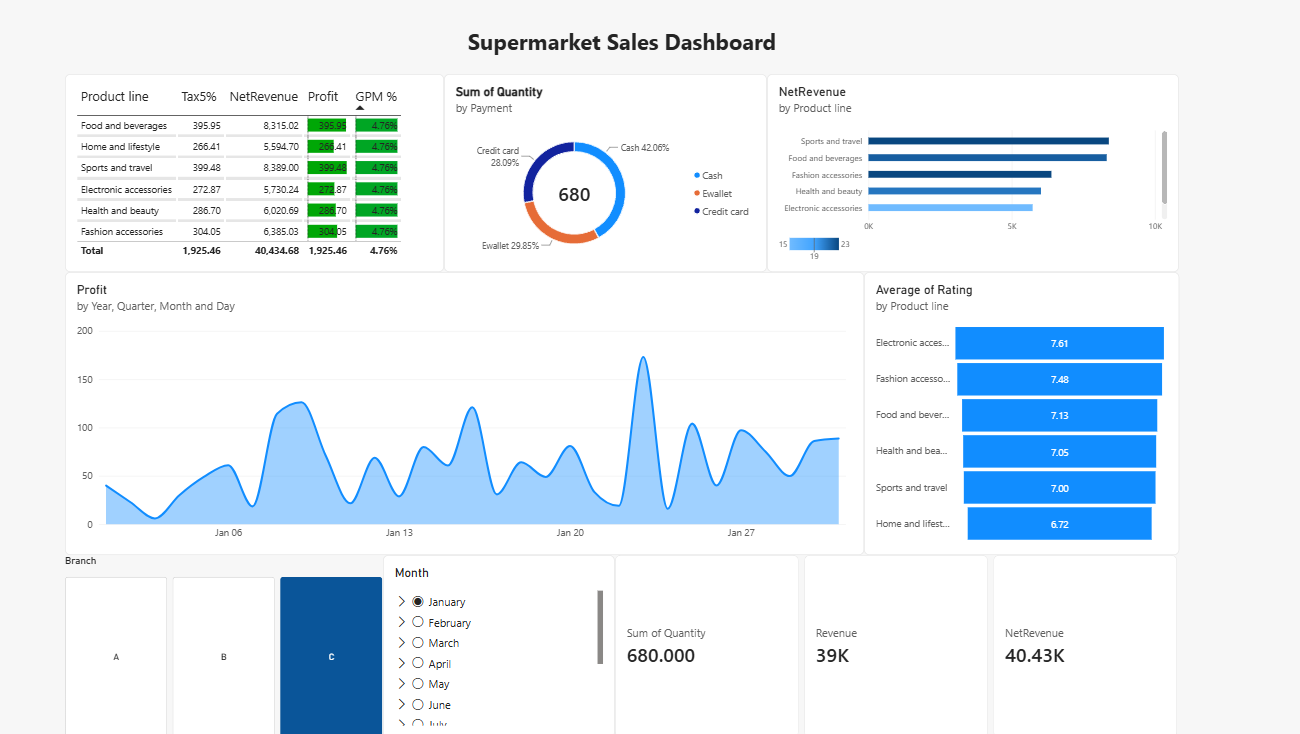

This screenshot's page, from the dashboard's own definition file:
{"tool":"powerbi","page":{"name":"Deck-1","canvas":[1920,1080],"ordinal":0},"visuals":[{"type":"tableEx","fields":{"Values":["supermarket_sales.Product line","supermarket_sales.Tax5%","supermarket_sales.NetRevenue","supermarket_sales.Profit","supermarket_sales.GPM %"]},"box":[100.7,110.9,552.9,288.9],"z":0,"group":"g1"},{"type":"donutChart","fields":{"Category":["supermarket_sales.Payment"],"Y":["Sum(supermarket_sales.Quantity)"]},"box":[653.6,110.9,471.2,288.9],"z":1000,"group":"g1"},{"type":"barChart","fields":{"Category":["supermarket_sales.Product line"],"Y":["supermarket_sales.NetRevenue"]},"box":[1124.9,110.9,601.1,288.9],"z":2000,"group":"g1"},{"type":"areaChart","fields":{"Category":["supermarket_sales.Date.Variation.Date Hierarchy.Year","supermarket_sales.Date.Variation.Date Hierarchy.Quarter","supermarket_sales.Date.Variation.Date Hierarchy.Month","supermarket_sales.Date.Variation.Date Hierarchy.Day"],"Y":["supermarket_sales.Profit"]},"box":[100.7,399.8,1165.7,412.9],"z":3000,"group":"g1"},{"type":"funnel","fields":{"Category":["supermarket_sales.Product line"],"Y":["Avg(supermarket_sales.Rating)"]},"box":[1266.4,399.8,459.6,412.9],"z":4000,"group":"g1"},{"type":"cardVisual","title":"Quantity Sales","fields":{"Data":["Sum(supermarket_sales.Quantity)","supermarket_sales.Revenue","supermarket_sales.NetRevenue"]},"box":[903.1,812.7,822.9,267],"z":5000,"group":"g1"},{"type":"advancedSlicerVisual","fields":{"Values":["supermarket_sales.Branch"]},"box":[100.7,812.7,464,267],"z":6000,"group":"g1"},{"type":"listSlicer","fields":{"Values":["supermarket_sales.Date.Variation.Date Hierarchy.Month","supermarket_sales.Date.Variation.Date Hierarchy.Day"]},"box":[564.7,812.7,338.5,267],"z":7000,"group":"g1"},{"type":"group","id":"g1","title":"Group 1","box":[100.7,110.9,1625.3,968.8],"z":7001},{"type":"textbox","box":[100.7,40.9,1625.3,55.4],"z":7003}]}

Visuals, with their boxes in screenshot pixels (x1, y1, x2, y2), scaled from the page's 1920x1080 canvas onto the 1300x734 screenshot:
tableEx - supermarket_sales.Product line x supermarket_sales.Tax5%: Rect(68, 75, 443, 272)
donutChart - supermarket_sales.Payment x Sum(supermarket_sales.Quantity): Rect(443, 75, 762, 272)
barChart - supermarket_sales.Product line x supermarket_sales.NetRevenue: Rect(762, 75, 1169, 272)
areaChart - supermarket_sales.Date.Variation.Date Hierarchy.Year x supermarket_sales.Date.Variation.Date Hierarchy.Quarter: Rect(68, 272, 857, 552)
funnel - supermarket_sales.Product line x Avg(supermarket_sales.Rating): Rect(857, 272, 1169, 552)
"Quantity Sales" cardVisual: Rect(611, 552, 1169, 733)
advancedSlicerVisual - supermarket_sales.Branch: Rect(68, 552, 382, 733)
listSlicer - supermarket_sales.Date.Variation.Date Hierarchy.Month x supermarket_sales.Date.Variation.Date Hierarchy.Day: Rect(382, 552, 612, 733)
"Group 1" group: Rect(68, 75, 1169, 733)
textbox: Rect(68, 28, 1169, 65)
